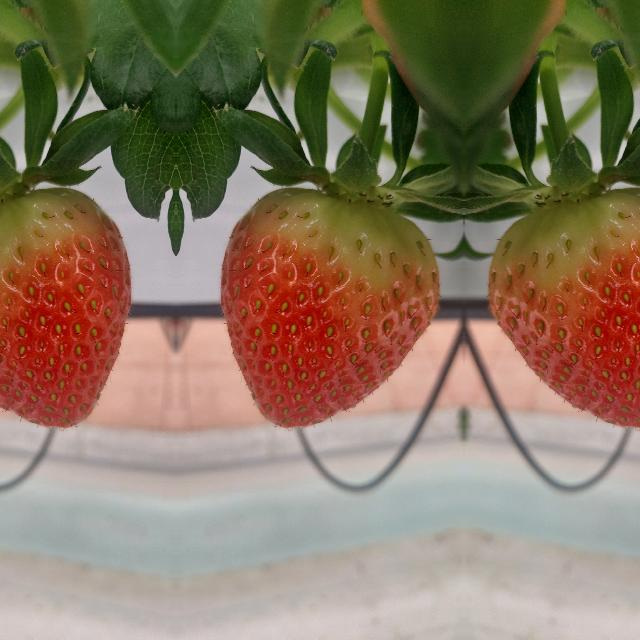Health_100: (220, 187, 438, 427), (487, 187, 640, 427), (0, 187, 130, 427)
